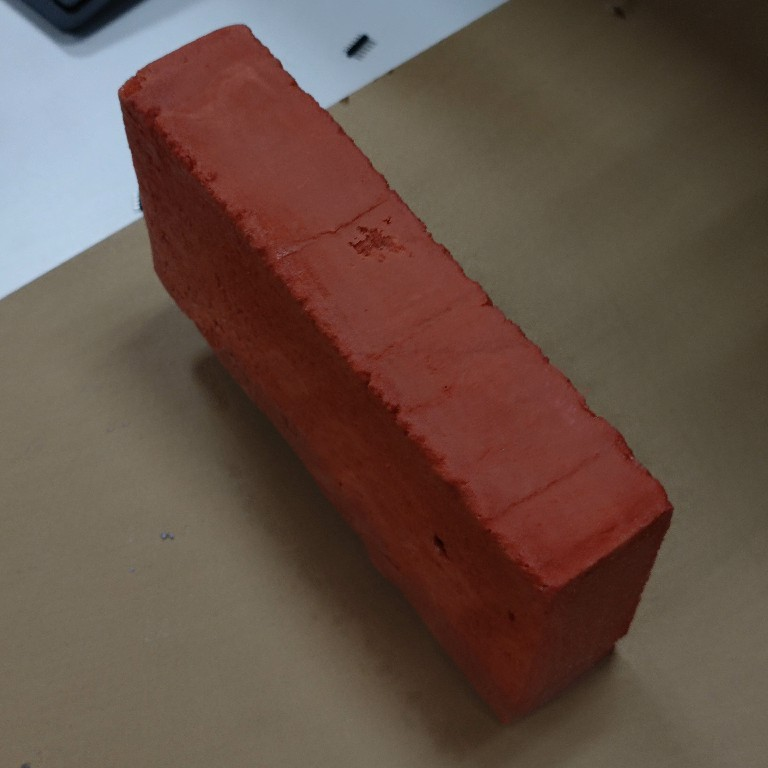brick: (115, 20, 676, 727)
